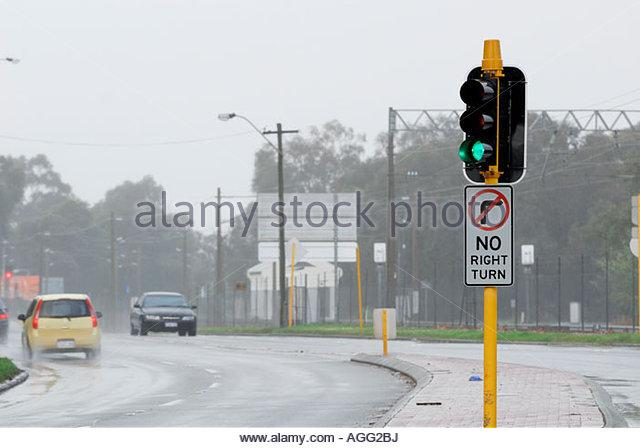no_right_turn: (468, 188, 509, 230)
